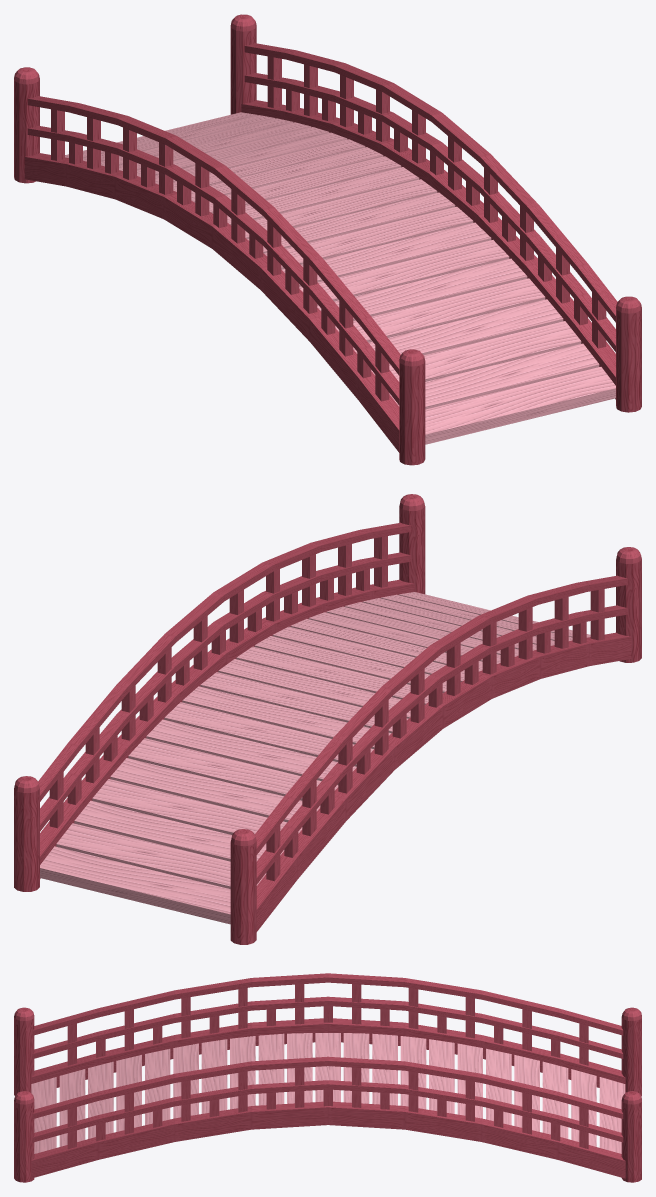
File: Bridge.fbx
3 views of the same model, one above another, from view 1: azimuth 30°, elevation 25°; view 2: azimuth 150°, elevation 25°; view 3: azimuth 270°, elevation 25° (orthographic). The views are drawn at different scales.
Parts seen in each view (by area): view 1: Bridge; view 2: Bridge; view 3: Bridge.
Part boxes in pixels (bbox=[...]): Bridge: bbox=[14, 14, 641, 465]; Bridge: bbox=[14, 494, 641, 944]; Bridge: bbox=[14, 973, 641, 1182].
Size of the model in its own units: 337 by 204 by 971.
